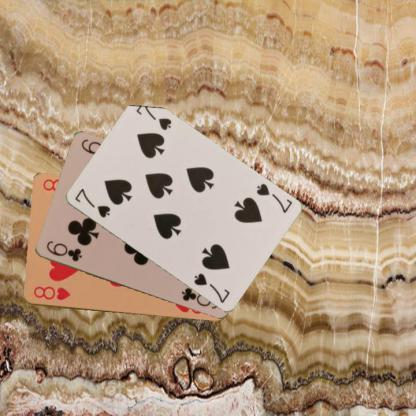6c: (44, 238, 84, 263)
7s: (72, 185, 112, 219), (253, 181, 294, 214)
8h: (30, 284, 72, 302)
